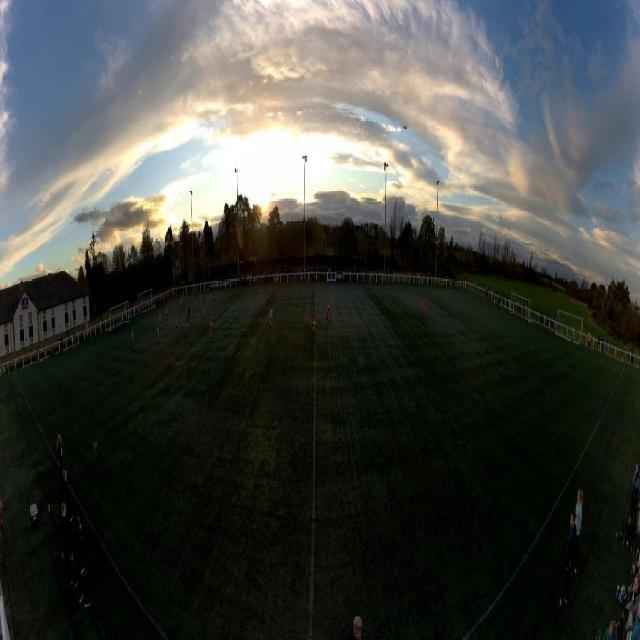ball: (199, 317, 200, 321)
player: (311, 310, 317, 339), (326, 296, 332, 322), (268, 304, 273, 333), (209, 316, 213, 344), (176, 311, 180, 338), (421, 296, 425, 320), (259, 289, 263, 311), (185, 315, 189, 337), (203, 307, 207, 328), (157, 324, 160, 346), (159, 312, 162, 332), (131, 327, 134, 347), (194, 299, 197, 315), (119, 313, 122, 328), (188, 304, 190, 322), (166, 308, 168, 324), (199, 293, 201, 309), (183, 293, 185, 308), (180, 297, 182, 312), (214, 292, 216, 306), (203, 290, 205, 301), (195, 286, 197, 297)
